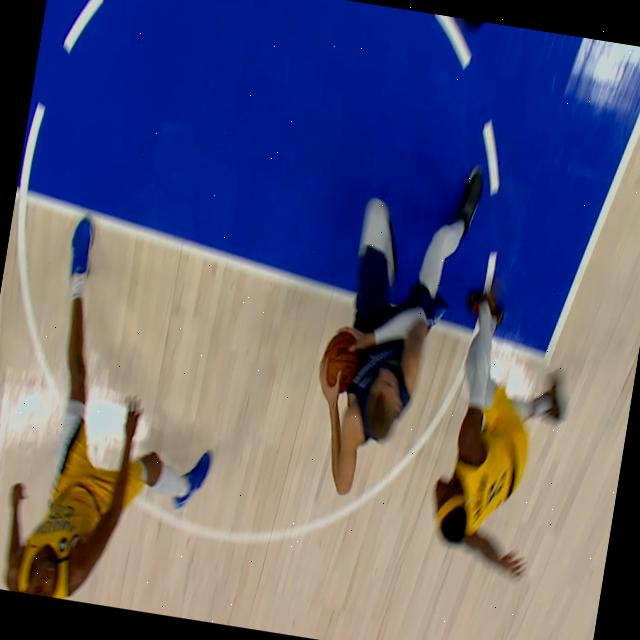no foul: (257, 103, 625, 630)
